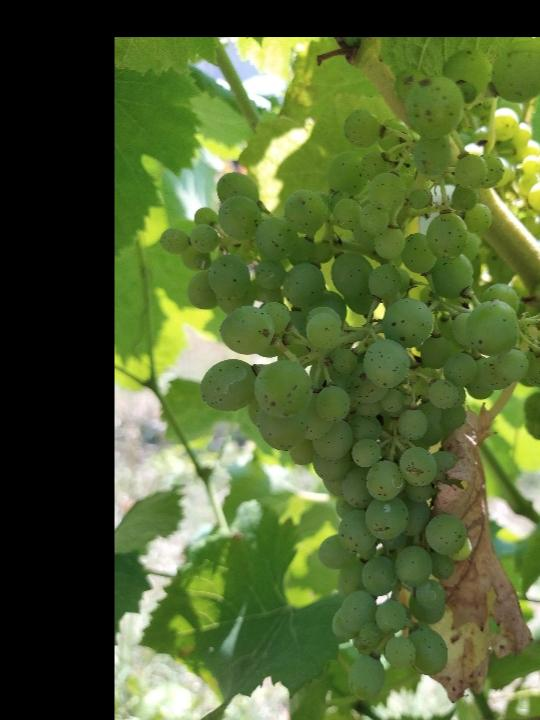grape: (157, 41, 540, 708)
